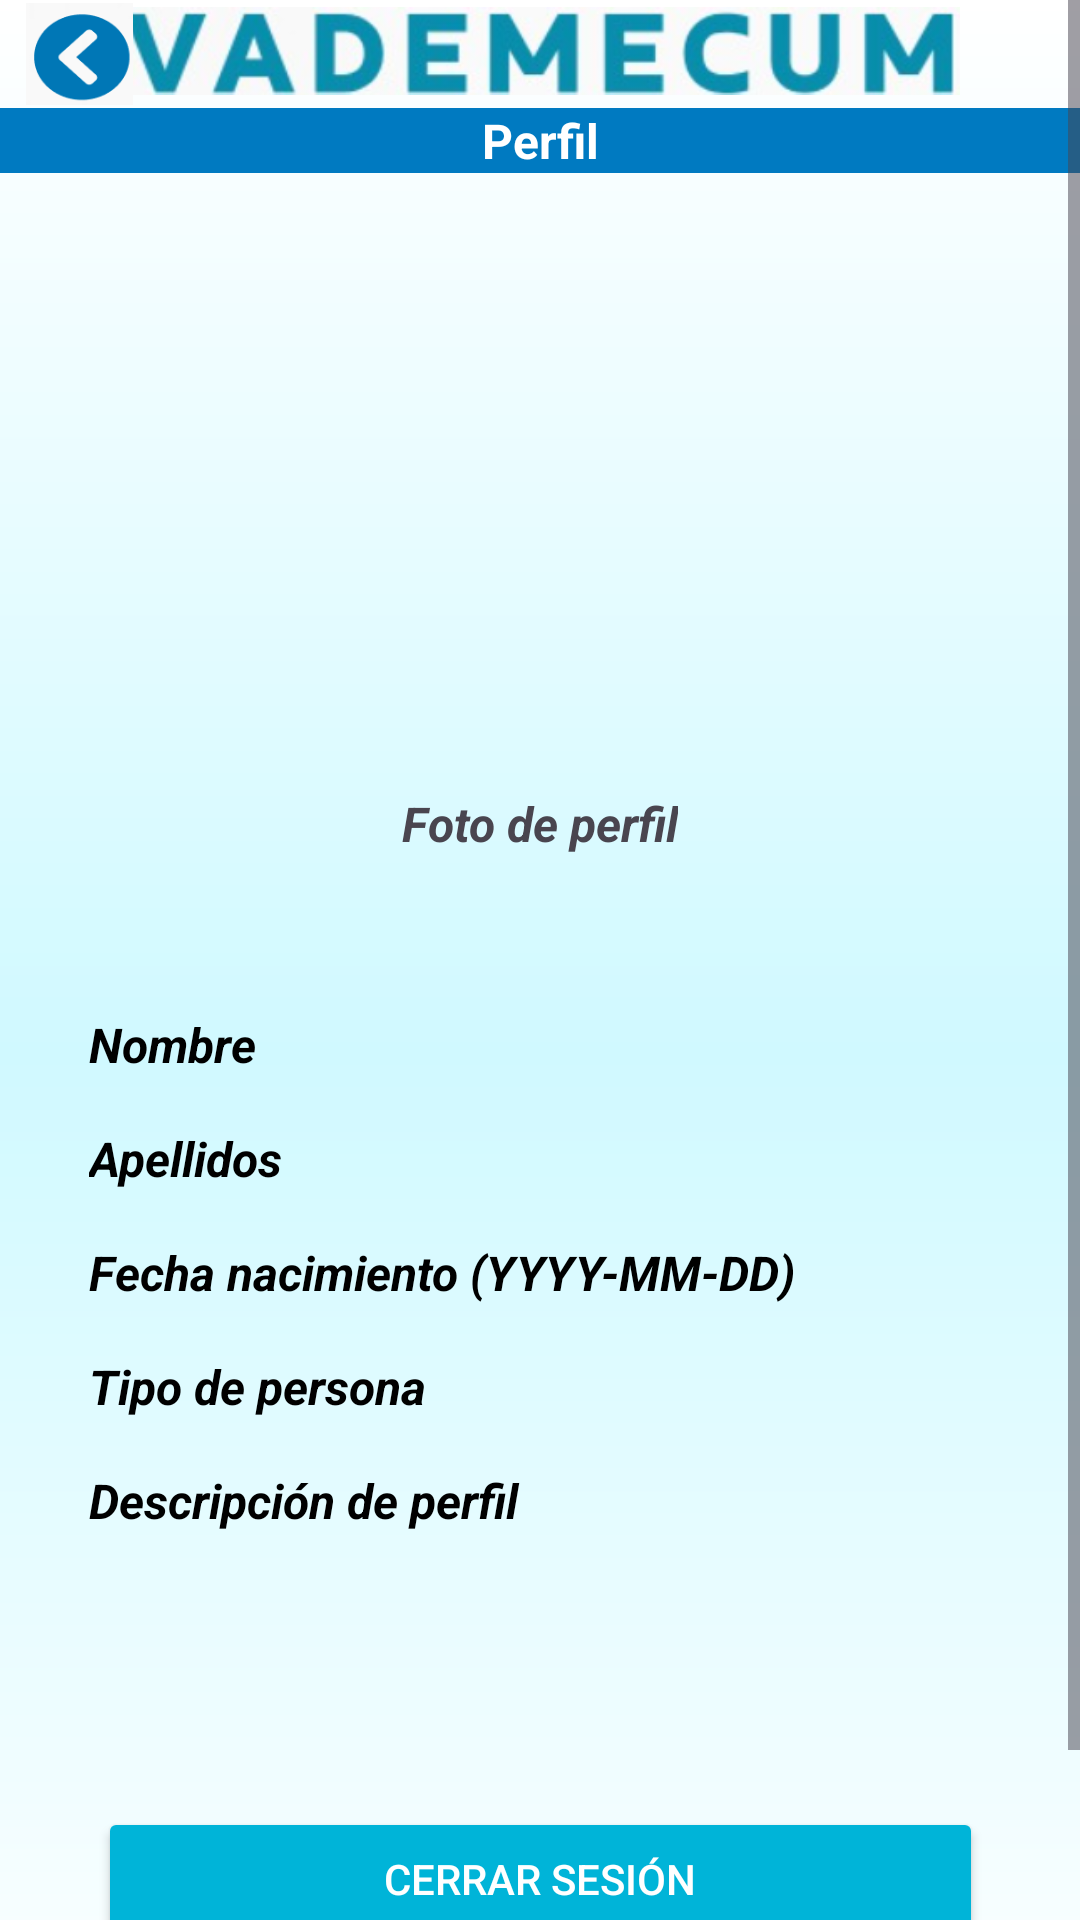

Screen size 1080 x 1920. Icon name, then its box in pixels as {"left": x1, "top": y1, "right": x2, "bottom": y2}:
imgatras: {"left": 34, "top": 14, "right": 130, "bottom": 101}
